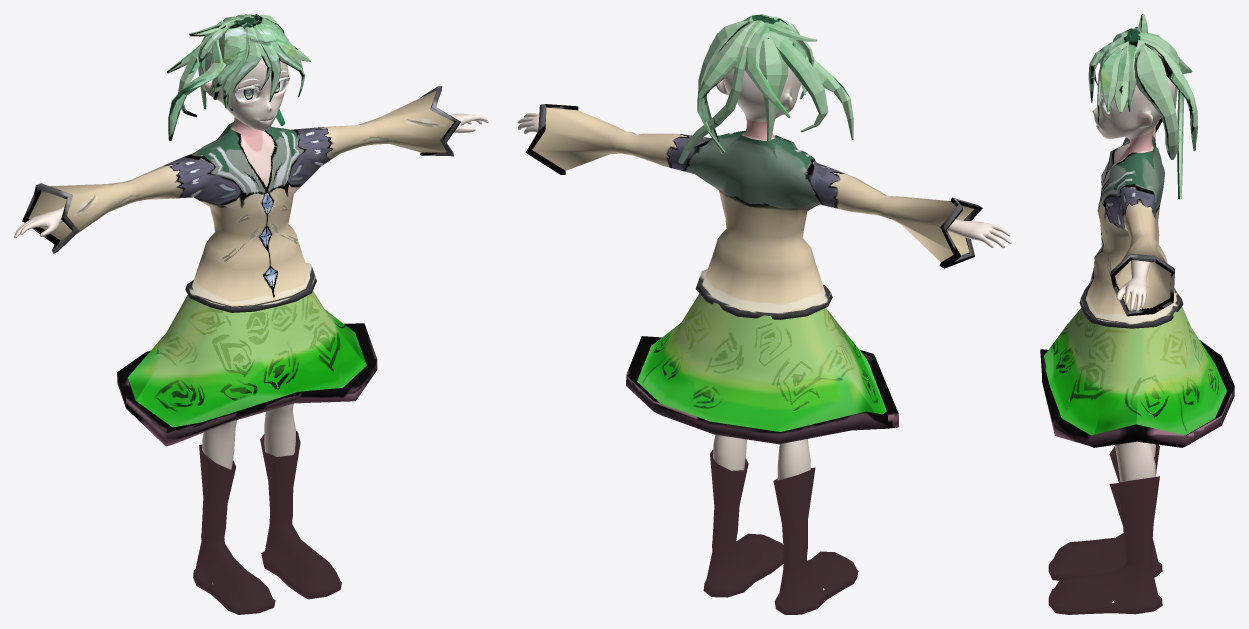
3 renders of one model, left to right at view 1: azimuth 30°, elevation 25°; view 2: azimuth 150°, elevation 25°; view 3: azimuth 270°, elevation 25°, orthographic. The views are drawn at different scales.
Parts seen in each view (by area): view 1: MainMesh; view 2: MainMesh; view 3: MainMesh.
Part boxes in pixels (box(x1,y1,x2,y2)): MainMesh: box(14, 14, 488, 614); MainMesh: box(517, 14, 1011, 614); MainMesh: box(1040, 14, 1234, 614).
Size of the model in its own units: 160 by 179 by 56.94.
Materials: 7 (5 with a texture image).
